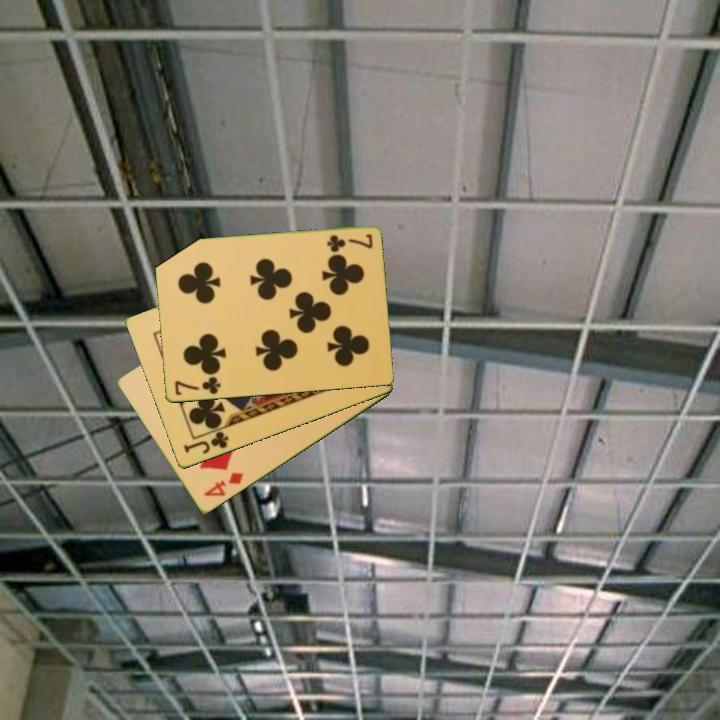4d: (200, 469, 246, 500)
7c: (171, 373, 223, 398), (323, 231, 375, 254)
Jc: (180, 428, 231, 458)
